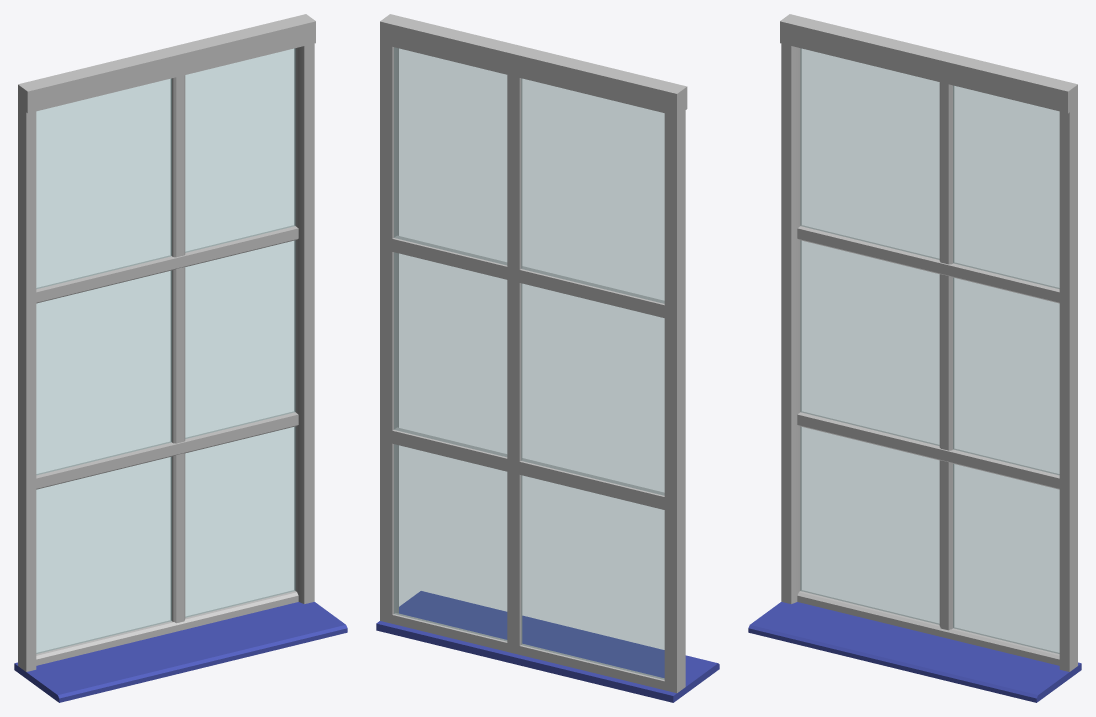
Rendered from LivingRoomWin04.FBX.
3 renders of one model, left to right at view 1: azimuth 30°, elevation 25°; view 2: azimuth 150°, elevation 25°; view 3: azimuth 330°, elevation 25°, orthographic. The views are drawn at different scales.
Visible parts, largest first — view 1: LivingRoomWin04; view 2: LivingRoomWin04; view 3: LivingRoomWin04.
Boxes of the visible parts, x1=… form: LivingRoomWin04: x1=14, y1=14, x2=347, y2=702; LivingRoomWin04: x1=376, y1=14, x2=719, y2=702; LivingRoomWin04: x1=748, y1=14, x2=1081, y2=702.
Bounding box in the file's own units: 95.47 × 25.79 × 186.
